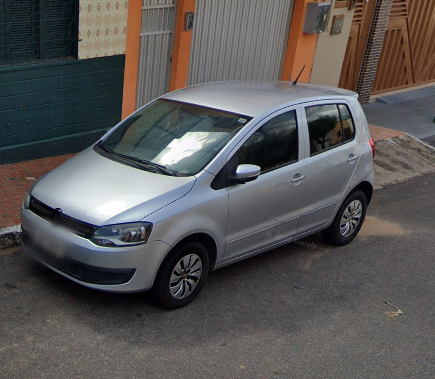car: (17, 61, 384, 311)
